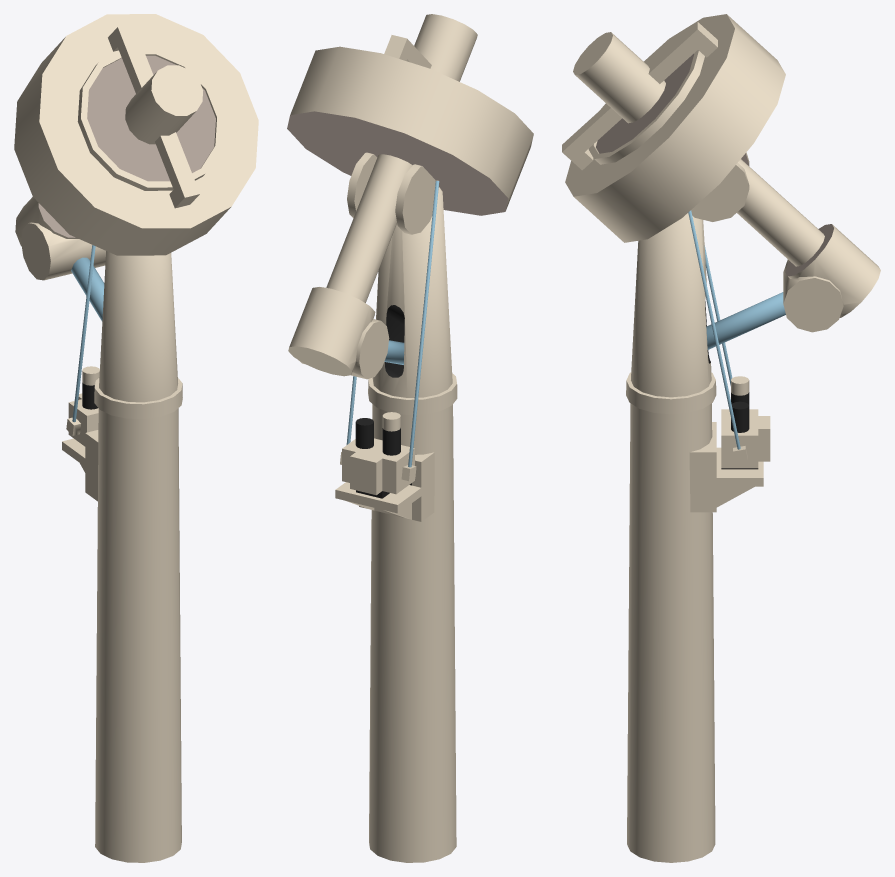
The model's file is Lomnicky telescopio redux1.fbx.
The picture shows the model from 3 angles, left to right: view 1: azimuth 30°, elevation 25°; view 2: azimuth 150°, elevation 25°; view 3: azimuth 270°, elevation 25°; orthographic projection.
Visible parts, largest first — view 1: Eje_base, eje-contrapeso; view 2: Eje_base, eje-contrapeso; view 3: Eje_base, eje-contrapeso.
Boxes of the visible parts, <box> form: Eje_base: <box>62,245,182,862</box>; eje-contrapeso: <box>14,14,258,321</box>; Eje_base: <box>335,180,457,862</box>; eje-contrapeso: <box>287,14,533,379</box>; Eje_base: <box>626,210,770,862</box>; eje-contrapeso: <box>562,14,880,349</box>.
Size of the model in its own units: 295 by 1139 by 402.
